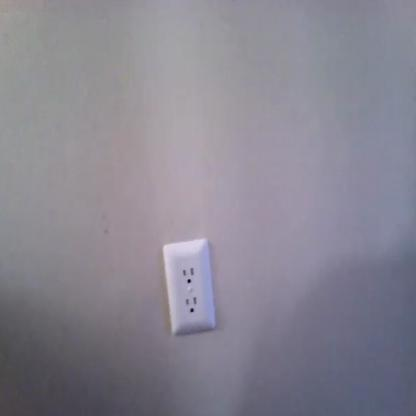OUTLET: (163, 242, 214, 332)
